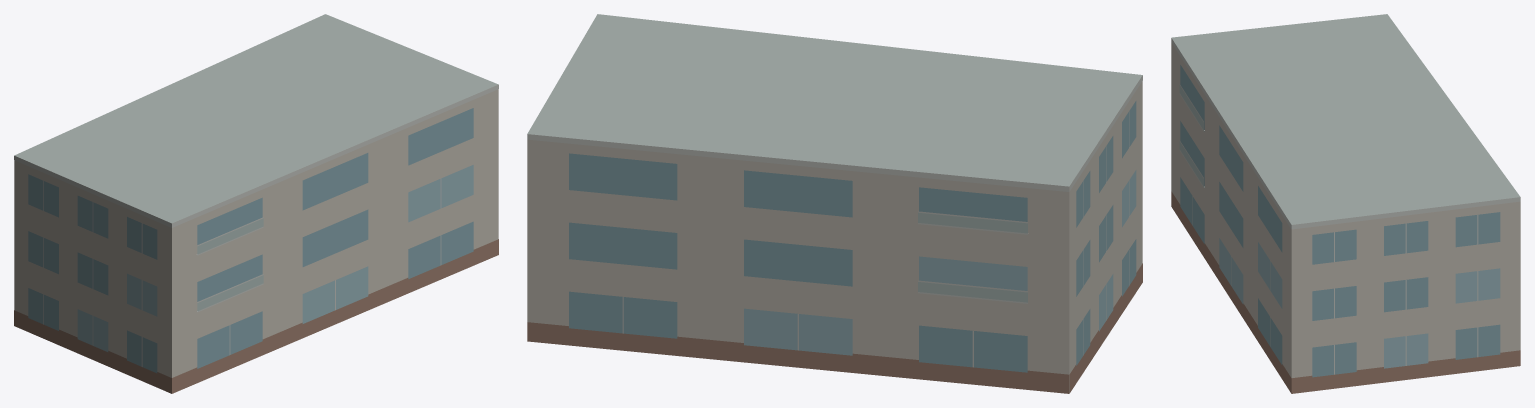
The model's file is survey-upis-33041639.glb.
3 renders of one model, left to right at view 1: azimuth 30°, elevation 25°; view 2: azimuth 150°, elevation 25°; view 3: azimuth 270°, elevation 25°, orthographic. The views are drawn at different scales.
Visible parts, largest first — view 1: survey-upis-33041639.tmp; view 2: survey-upis-33041639.tmp; view 3: survey-upis-33041639.tmp.
Boxes of the visible parts, left/top/right/bottom form: survey-upis-33041639.tmp: left=14, top=14, right=498, bottom=393; survey-upis-33041639.tmp: left=527, top=14, right=1142, bottom=393; survey-upis-33041639.tmp: left=1171, top=14, right=1520, bottom=393.
Size of the model in its own units: 24.52 by 9.15 by 17.16.
